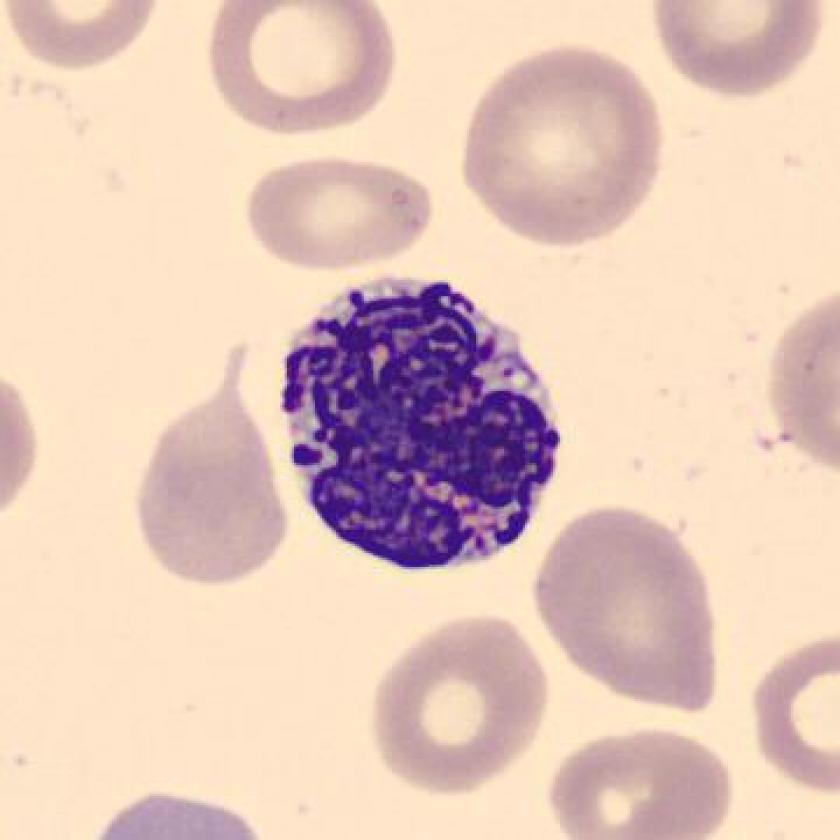basophil: (269, 267, 566, 584)
